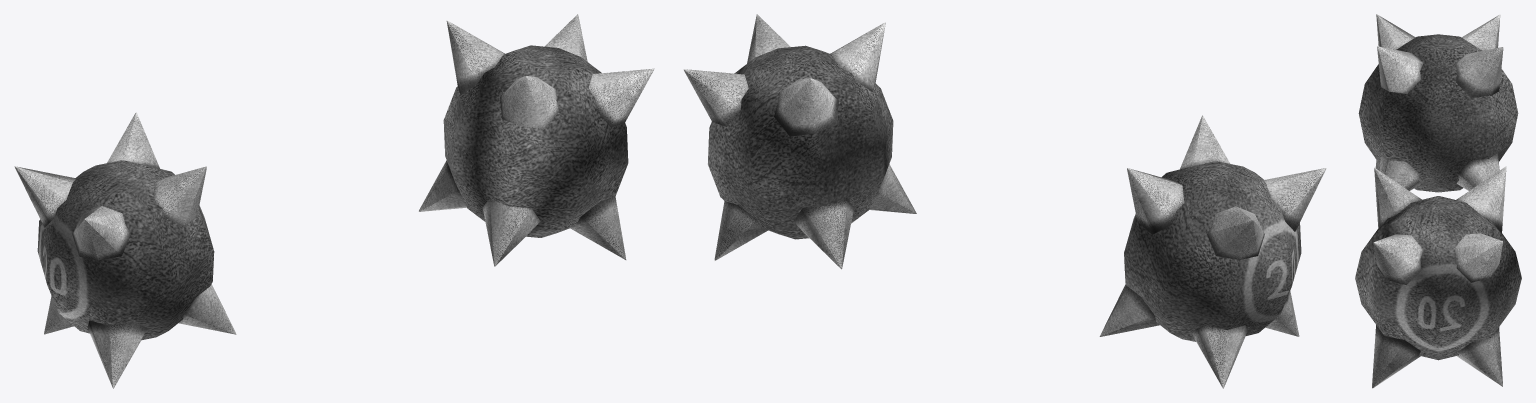
The model's file is HANDS_CHIBI_SPIKY.fbx.
3 renders of one model, left to right at view 1: azimuth 30°, elevation 25°; view 2: azimuth 150°, elevation 25°; view 3: azimuth 270°, elevation 25°, orthographic. The views are drawn at different scales.
Visible parts, largest first — view 1: HANDS_CHIBI_SPYKY_BALL_LEFT, HANDS_CHIBI_SPYKY_BALL_RIGHT; view 2: HANDS_CHIBI_SPYKY_BALL_LEFT, HANDS_CHIBI_SPYKY_BALL_RIGHT; view 3: HANDS_CHIBI_SPYKY_BALL_LEFT, HANDS_CHIBI_SPYKY_BALL_RIGHT.
Boxes of the visible parts, left/top/right/bottom form: HANDS_CHIBI_SPYKY_BALL_LEFT: left=418, top=14, right=654, bottom=266; HANDS_CHIBI_SPYKY_BALL_RIGHT: left=14, top=112, right=236, bottom=388; HANDS_CHIBI_SPYKY_BALL_LEFT: left=683, top=14, right=916, bottom=269; HANDS_CHIBI_SPYKY_BALL_RIGHT: left=1099, top=115, right=1326, bottom=388; HANDS_CHIBI_SPYKY_BALL_LEFT: left=1355, top=166, right=1521, bottom=388; HANDS_CHIBI_SPYKY_BALL_RIGHT: left=1358, top=14, right=1518, bottom=192.
Bounding box in the file's own units: 1.64 × 0.5852 × 0.4805.
